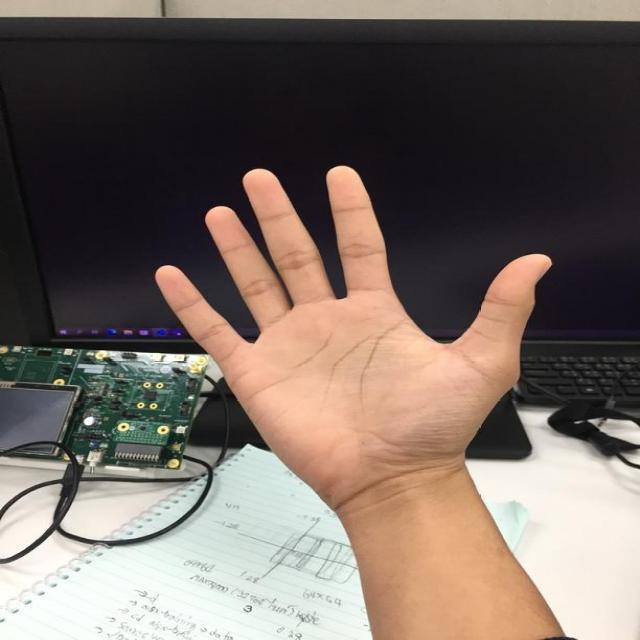hand: (148, 161, 557, 491)
